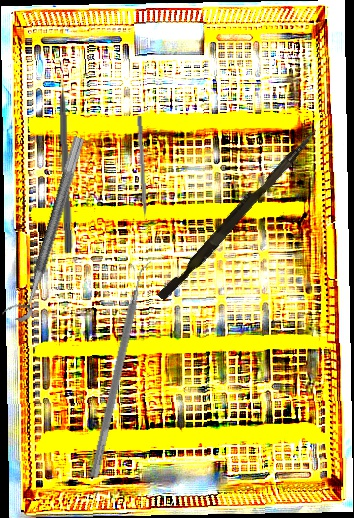Fixation Ring: (1, 130, 86, 325)
Pusher: (157, 122, 319, 306), (57, 62, 75, 254), (135, 115, 149, 233)
Spatula Surgical: (89, 256, 156, 481)
